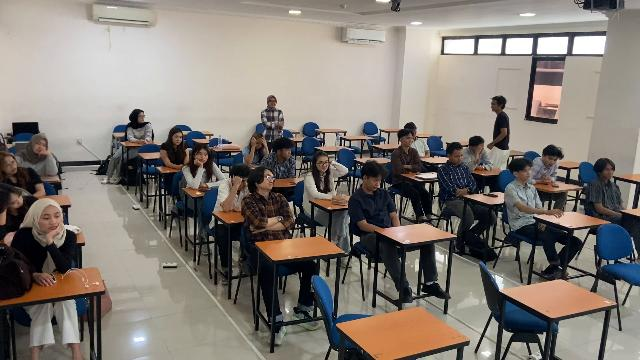bosan: (44, 208, 62, 230), (3, 156, 18, 173), (263, 171, 275, 190), (10, 193, 24, 209), (32, 140, 47, 154), (369, 176, 382, 191), (520, 166, 532, 181), (196, 149, 208, 163), (317, 157, 328, 172), (545, 156, 558, 168), (604, 165, 615, 179), (454, 150, 464, 164), (282, 145, 291, 160), (173, 133, 184, 145), (404, 134, 414, 147), (255, 138, 262, 150)
